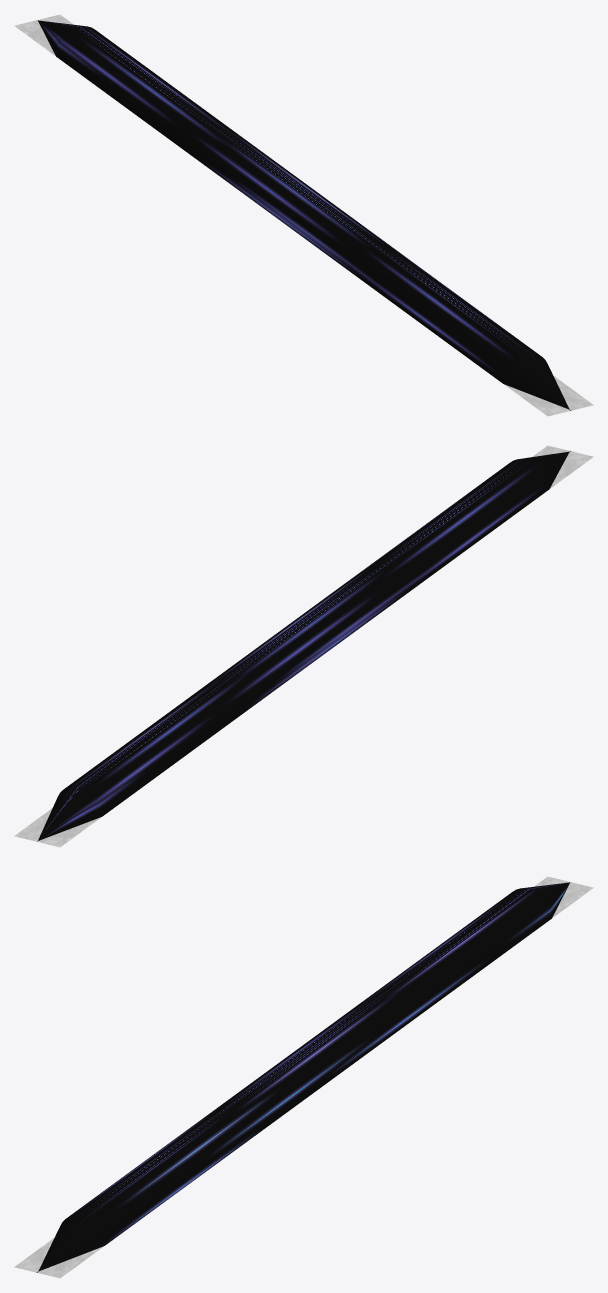
File: xiaomi.glb
The picture shows the model from 3 angles, top to bottom: view 1: azimuth 30°, elevation 25°; view 2: azimuth 150°, elevation 25°; view 3: azimuth 330°, elevation 25°; orthographic projection.
Visible parts, largest first — view 1: flyline, ground, ground_shader; view 2: flyline, ground, ground_shader; view 3: flyline, ground, ground_shader.
Boxes of the visible parts, bbox=[...] form: flyline: bbox=[37, 20, 571, 410]; ground: bbox=[14, 14, 593, 416]; ground_shader: bbox=[14, 14, 593, 416]; flyline: bbox=[37, 451, 570, 841]; ground: bbox=[14, 445, 593, 847]; ground_shader: bbox=[14, 445, 593, 847]; flyline: bbox=[36, 882, 570, 1272]; ground: bbox=[14, 877, 593, 1278]; ground_shader: bbox=[14, 876, 593, 1278].
Bounding box in the file's own units: 50 × 25.27 × 1000.
Materials: 40 (26 with a texture image).
